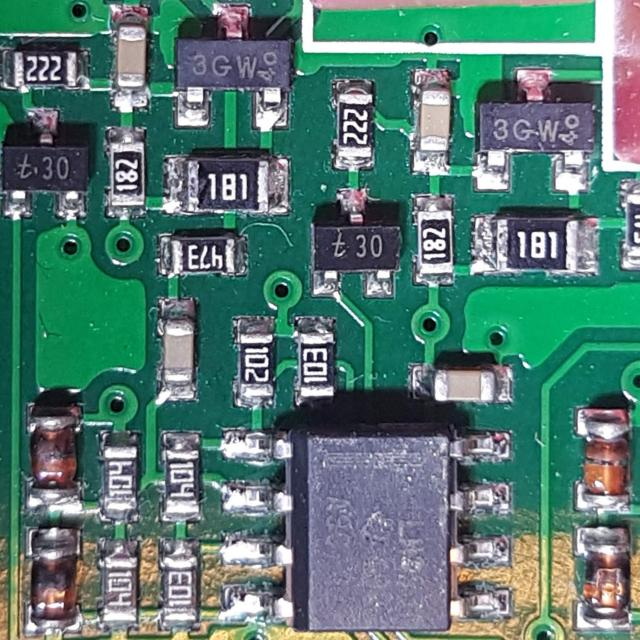4439: (175, 16, 292, 119), (476, 84, 593, 180), (0, 130, 101, 214), (306, 209, 401, 286)
IC: (236, 426, 501, 640)
capacitor 1V5: (425, 361, 499, 411), (418, 83, 458, 160), (160, 314, 198, 386), (119, 20, 153, 93)
diode -D1-: (26, 528, 88, 628), (581, 411, 630, 510), (592, 526, 639, 622), (29, 400, 82, 485)
resistor IR1: (481, 210, 586, 285), (165, 155, 281, 212), (106, 130, 150, 216), (168, 229, 238, 279), (291, 322, 336, 398), (411, 200, 457, 274), (230, 326, 276, 394), (334, 85, 370, 171), (6, 48, 74, 88), (100, 550, 140, 618), (163, 440, 202, 506), (99, 435, 133, 509), (161, 546, 190, 624)
